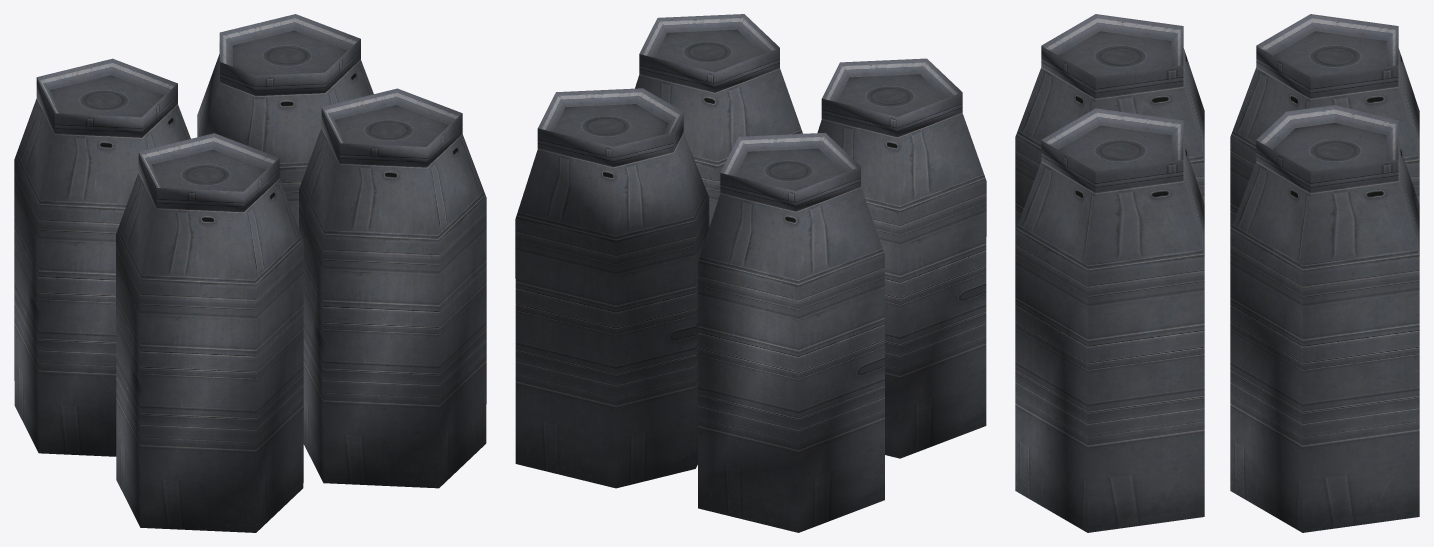
File: Prop_Qyt02_lod2.glb
The picture shows the model from 3 angles, left to right: view 1: azimuth 30°, elevation 25°; view 2: azimuth 150°, elevation 25°; view 3: azimuth 270°, elevation 25°; orthographic projection. The views are drawn at different scales.
Parts seen in each view (by area): view 1: xiutz_qyt_02_lod2; view 2: xiutz_qyt_02_lod2; view 3: xiutz_qyt_02_lod2.
Part boxes in pixels (bbox=[...]): xiutz_qyt_02_lod2: bbox=[14, 14, 486, 532]; xiutz_qyt_02_lod2: bbox=[515, 14, 986, 532]; xiutz_qyt_02_lod2: bbox=[1015, 14, 1419, 532].
Bounding box in the file's own units: 1.39 × 1.28 × 1.33.
1 material, 1 textured.
